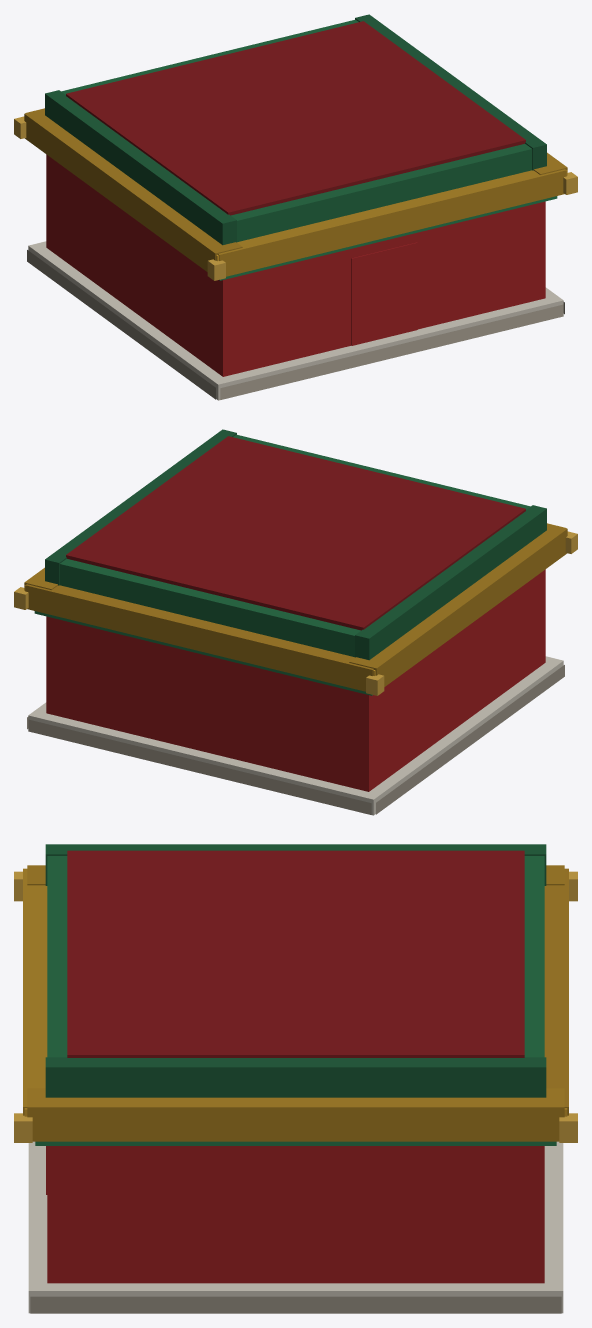
Rendered from TerracottaWarriorSil.fbx.
The picture shows the model from 3 angles, top to bottom: view 1: azimuth 30°, elevation 25°; view 2: azimuth 150°, elevation 25°; view 3: azimuth 270°, elevation 25°; orthographic projection. The views are drawn at different scales.
Parts seen in each view (by area): view 1: TW_S_All; view 2: TW_S_All; view 3: TW_S_All.
Boxes of the visible parts, box(x1,y1,x2,y2) form: TW_S_All: box(14, 14, 577, 400); TW_S_All: box(14, 429, 577, 815); TW_S_All: box(14, 844, 577, 1313).
Bounding box in the file's own units: 44.24 × 20 × 42.24.
